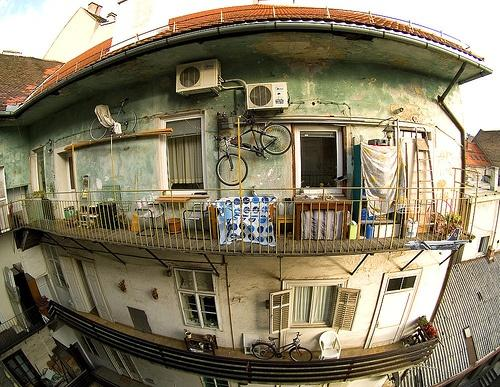tampered: (406, 229, 468, 250)
